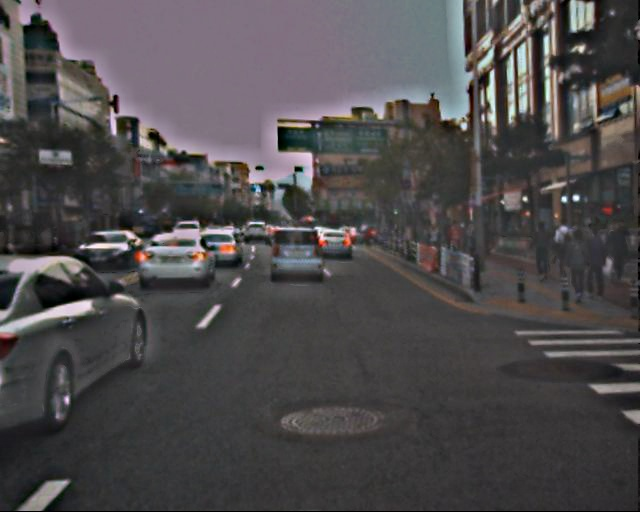person: (559, 228, 590, 303), (576, 226, 606, 298), (421, 221, 477, 256), (600, 222, 625, 283), (527, 220, 551, 279), (550, 217, 574, 275)
